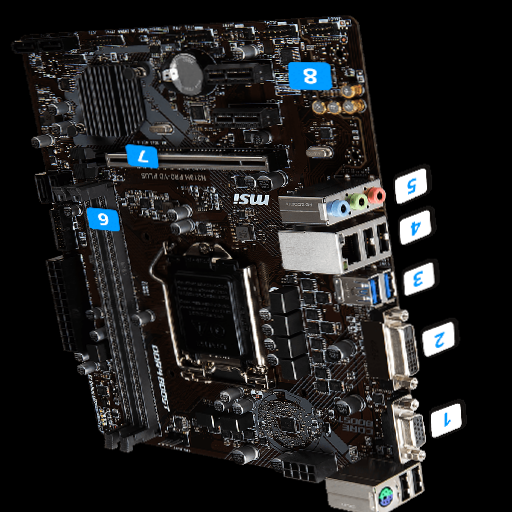CPU: (163, 242, 265, 388)
GPU: (82, 145, 287, 175)
MOTHERBOARD: (23, 13, 430, 478)
RAM: (53, 185, 165, 455)
